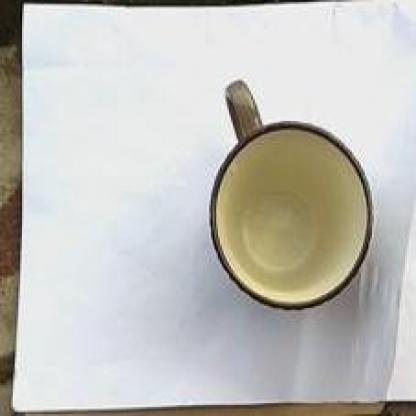mug: (212, 87, 371, 346)
